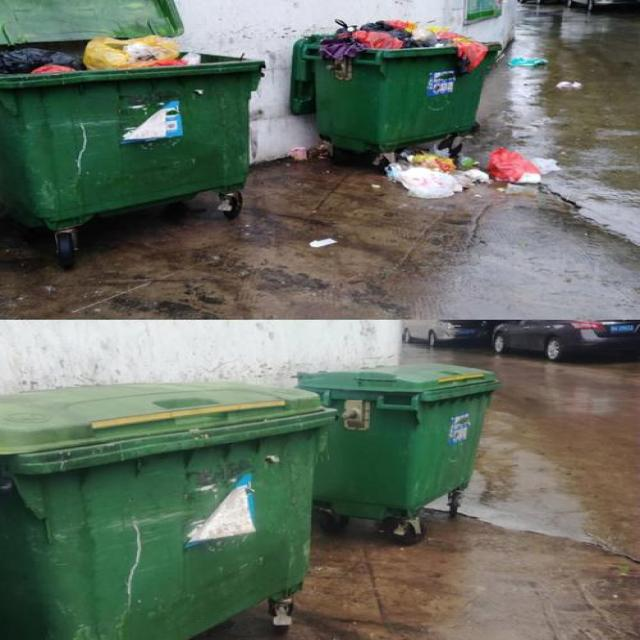garbage: (384, 145, 558, 197)
garbage_bin: (0, 380, 339, 639), (293, 361, 499, 518)
overflow: (0, 35, 264, 228), (288, 18, 503, 149)
